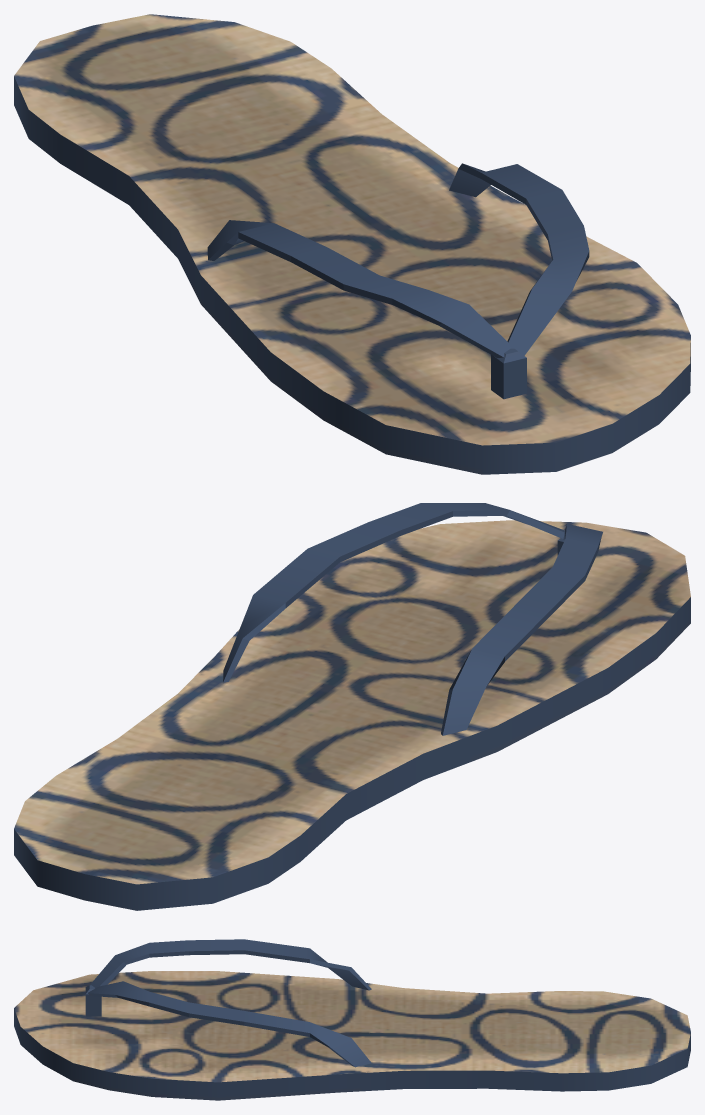
File: p6_beach_sandals_01_left_lod0.glb
The picture shows the model from 3 angles, top to bottom: view 1: azimuth 30°, elevation 25°; view 2: azimuth 150°, elevation 25°; view 3: azimuth 270°, elevation 25°; orthographic projection. The views are drawn at different scales.
Visible parts, largest first — view 1: surf0; view 2: surf0; view 3: surf0.
Boxes of the visible parts, box(x1,y1,x2,y2) form: surf0: box(14, 14, 690, 474); surf0: box(14, 503, 690, 910); surf0: box(14, 939, 690, 1100).
Size of the model in its own units: 5.16 by 1.44 by 13.24.
